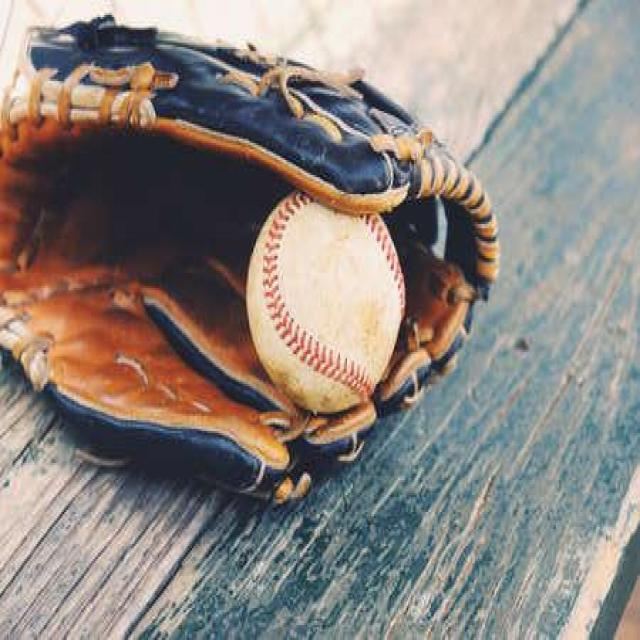baseball: (242, 181, 408, 412)
